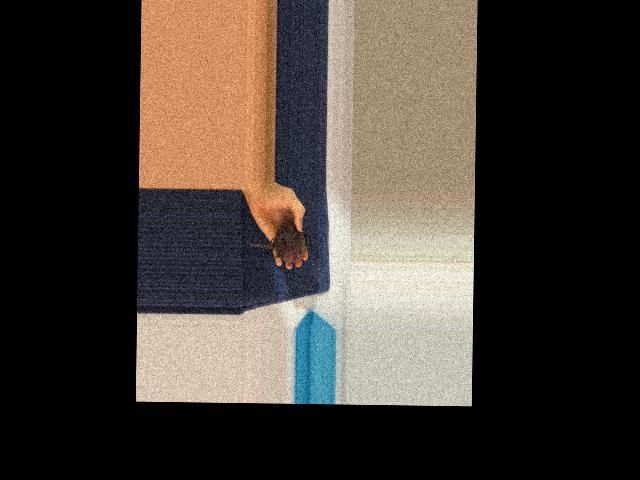beet: (245, 222, 310, 264)
